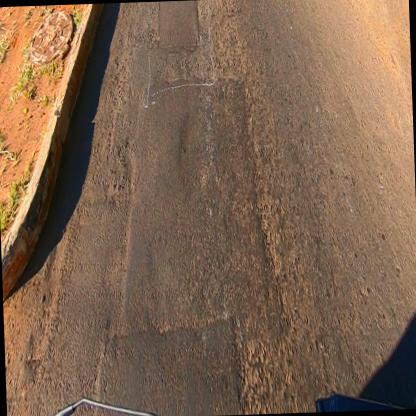manholes: (25, 8, 77, 74)
